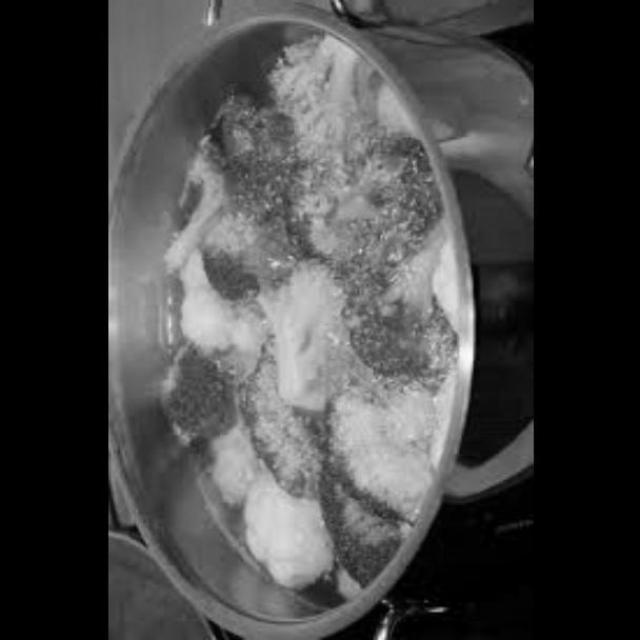bong cai xanh: (152, 122, 429, 538), (261, 26, 368, 178)
sup lo: (230, 475, 328, 599), (170, 254, 259, 365), (204, 424, 255, 528)
